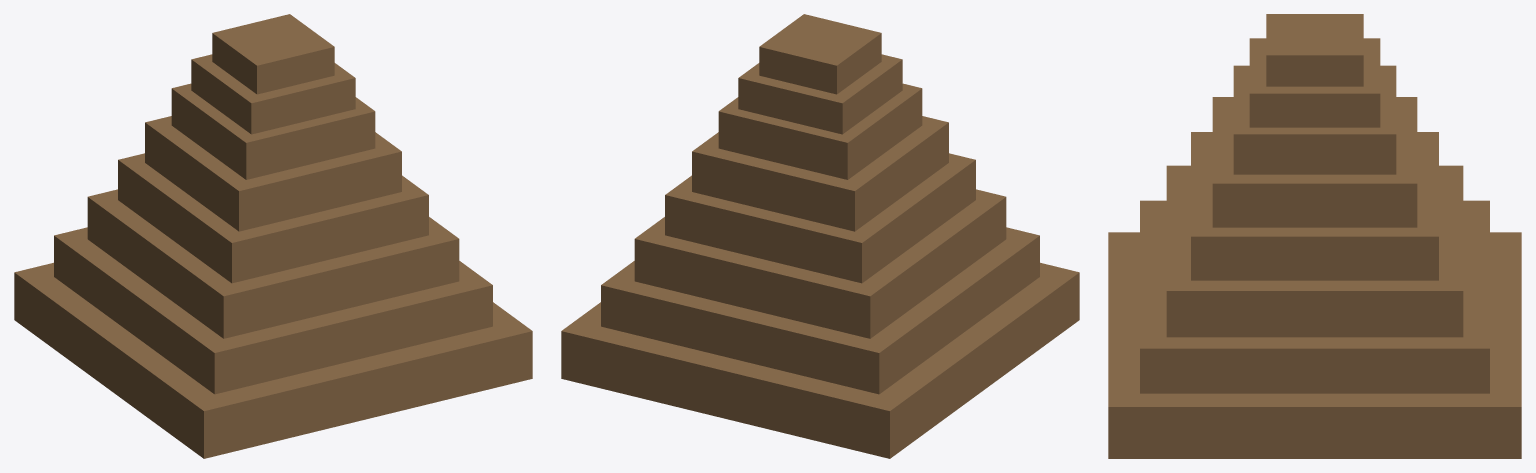
Rendered from Piramide fondo.fbx.
The picture shows the model from 3 angles, left to right: view 1: azimuth 30°, elevation 25°; view 2: azimuth 150°, elevation 25°; view 3: azimuth 270°, elevation 25°; orthographic projection. The views are drawn at different scales.
Visible parts, largest first — view 1: pCube1; view 2: pCube1; view 3: pCube1.
Boxes of the visible parts, x1,y1,x2,y2 form: pCube1: (14,14,532,458); pCube1: (561,14,1079,458); pCube1: (1108,14,1521,458).
Bounding box in the file's own units: 1 × 0.9 × 1.
